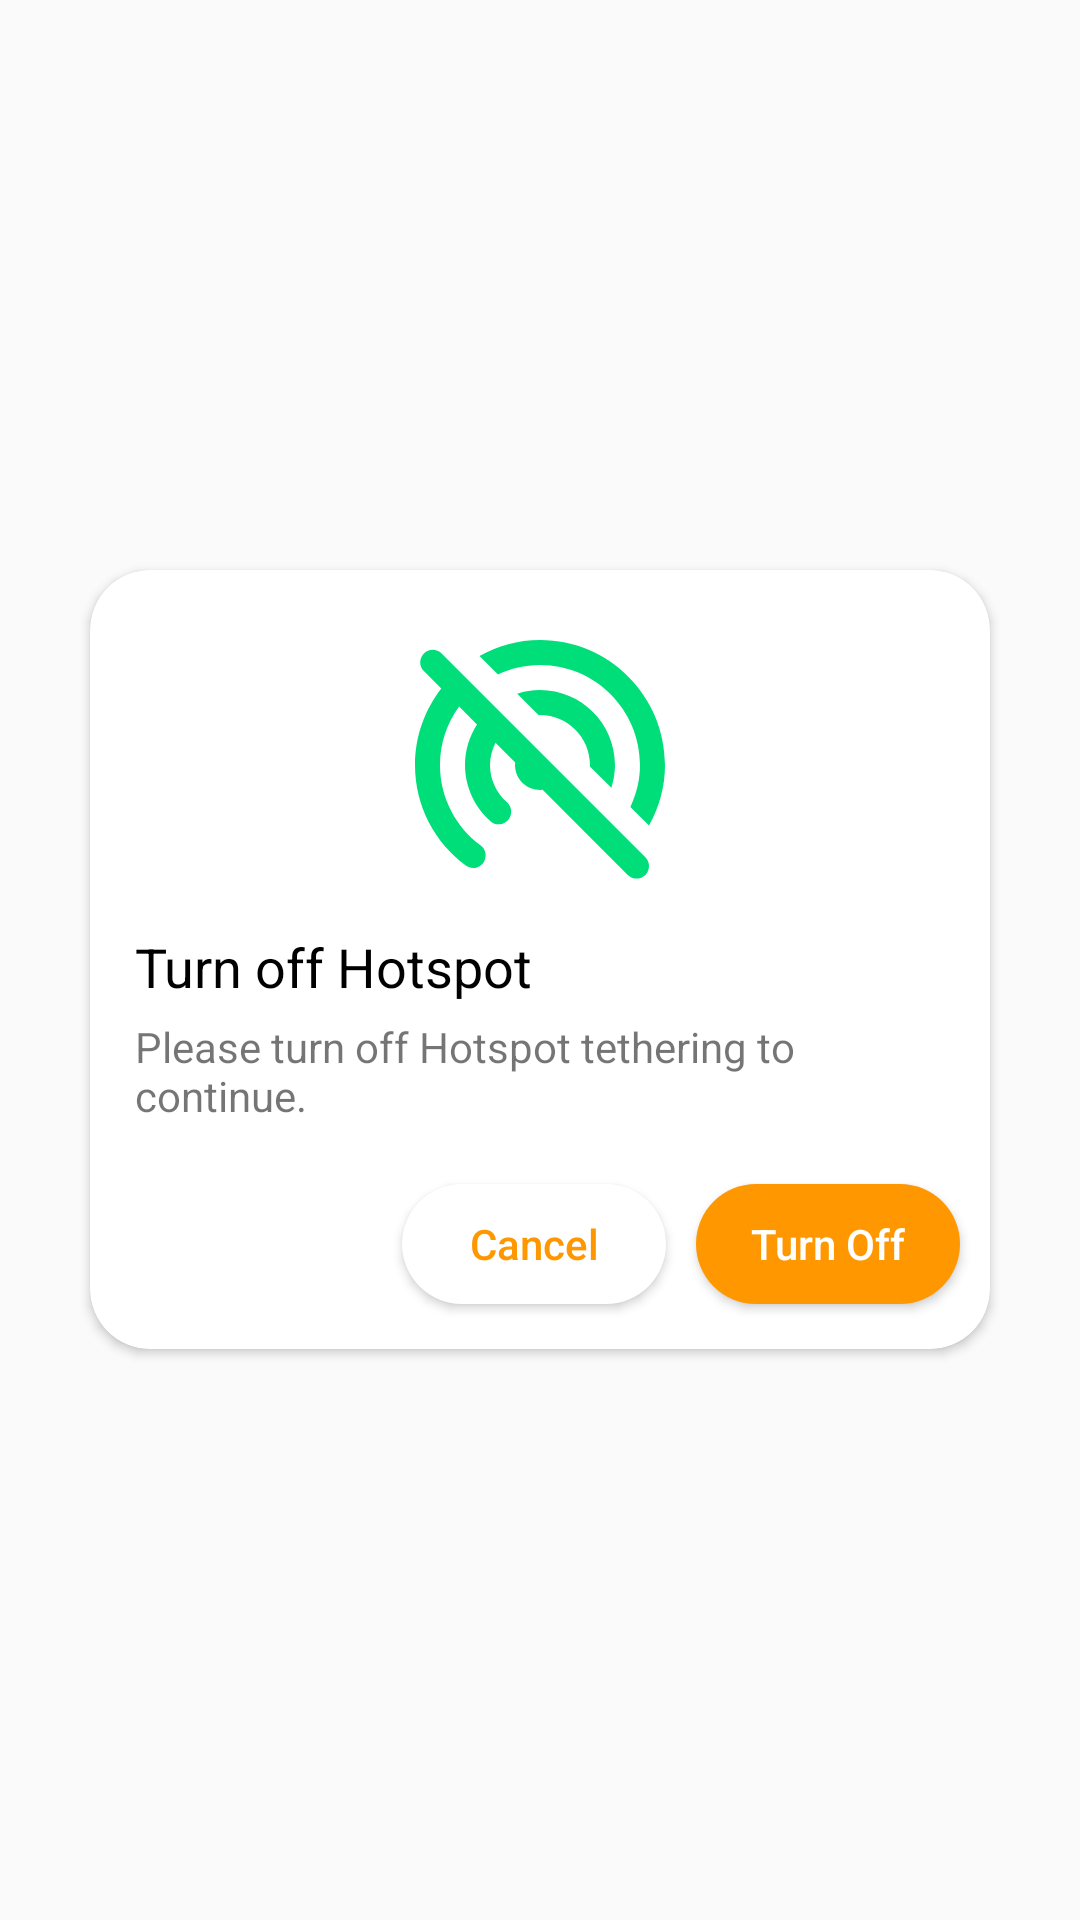

Screen size 1080*1920. Icon name, then its center in pixels as (x,y):
portable wifi off: (540,759)
